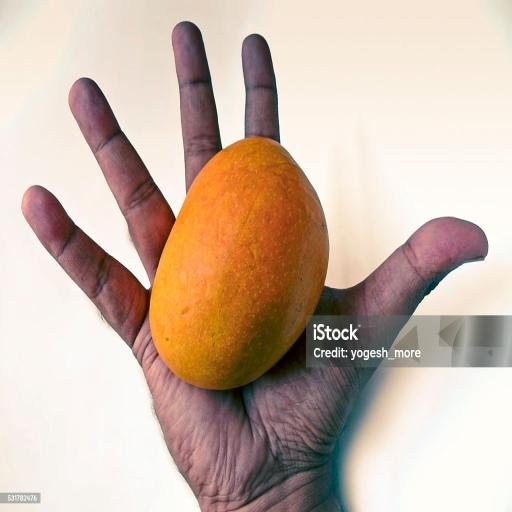mango: (150, 138, 328, 389)
